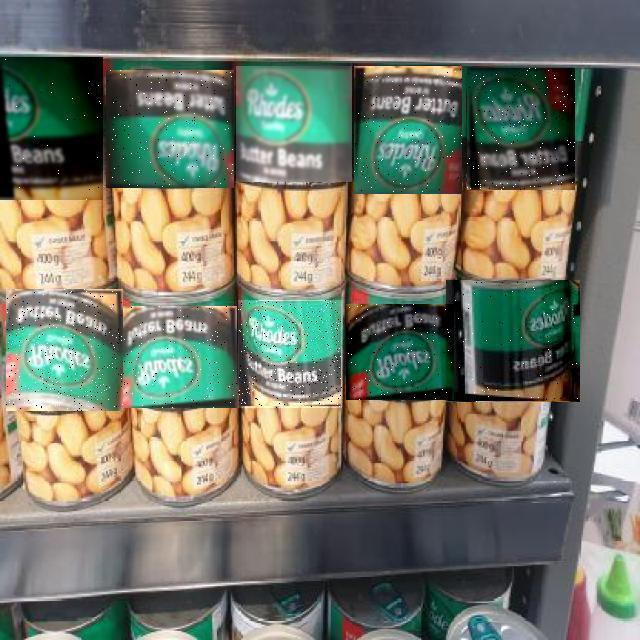Beans: (446, 280, 580, 402), (106, 70, 234, 188), (0, 57, 103, 200), (6, 289, 123, 411), (355, 66, 463, 194), (236, 66, 352, 182), (467, 68, 575, 190), (123, 307, 237, 409), (238, 301, 342, 409), (346, 305, 454, 401)
